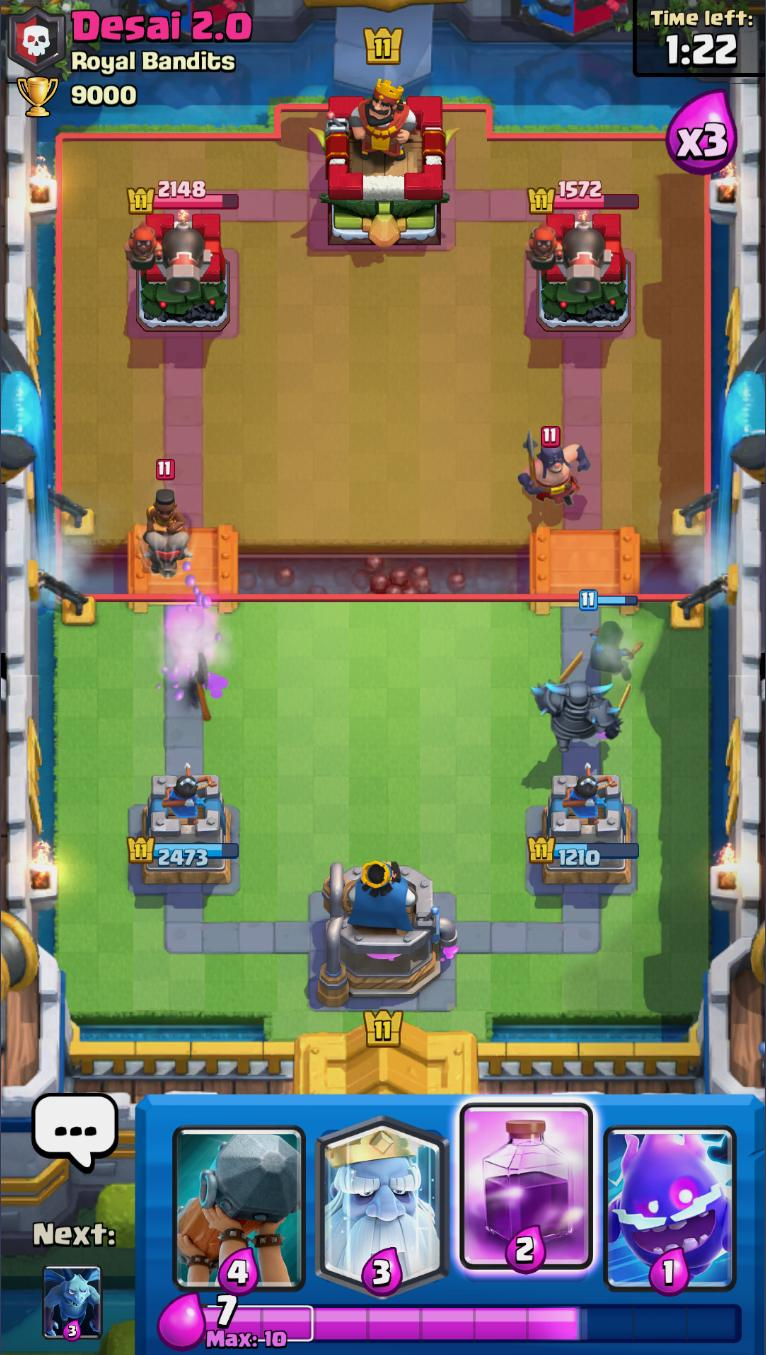BattleRamDeck: (169, 1094, 313, 1295)
Cannoneer: (522, 216, 607, 296), (125, 215, 205, 298)
ElectroSpiritDeck: (601, 1097, 740, 1294)
Elixir: (202, 1297, 745, 1350)
EnemyTower: (524, 212, 634, 333), (125, 211, 232, 333)
Executioner: (519, 425, 592, 511)
KingTower: (308, 82, 462, 250)
MinionsNext: (42, 1264, 104, 1341)
MyBandit: (580, 591, 642, 674)
MyKingTower: (317, 859, 459, 1009)
MyPekka: (533, 651, 632, 748)
MyPrincessTower: (129, 767, 240, 888), (529, 769, 640, 886)
MyPrincessTowerHP: (127, 835, 241, 867), (528, 837, 640, 869)
RageDeck: (454, 1096, 600, 1297)
RamRider: (142, 458, 190, 581)
RoyaleGhostDeck: (311, 1097, 454, 1299)
TowerPrincessHP: (529, 180, 641, 214), (129, 182, 241, 215)
